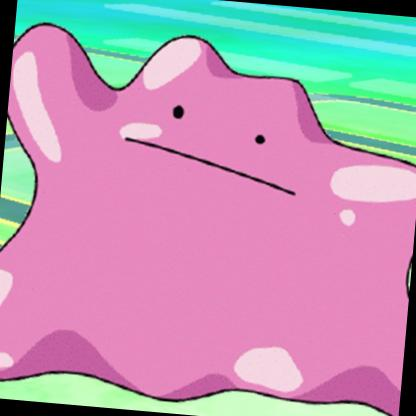Ditto: (1, 33, 416, 416)
